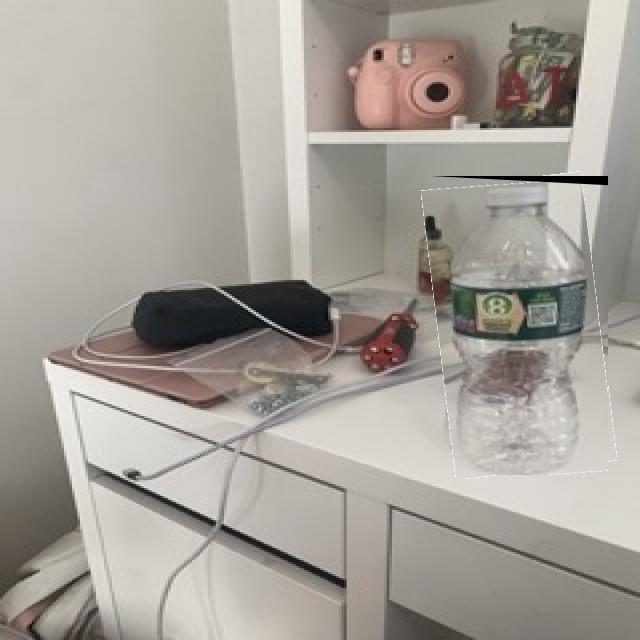water_bottle: (430, 176, 608, 475)
